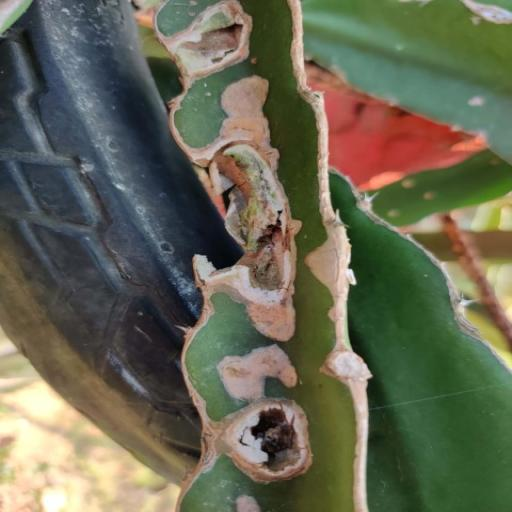stemcanker: (376, 177, 445, 226), (446, 90, 500, 124), (172, 0, 216, 22), (228, 482, 260, 512), (466, 9, 494, 36), (481, 148, 506, 178), (386, 38, 419, 60), (381, 90, 407, 113), (196, 79, 220, 102), (244, 51, 268, 71), (188, 102, 210, 118), (298, 230, 318, 244), (296, 376, 312, 390)
